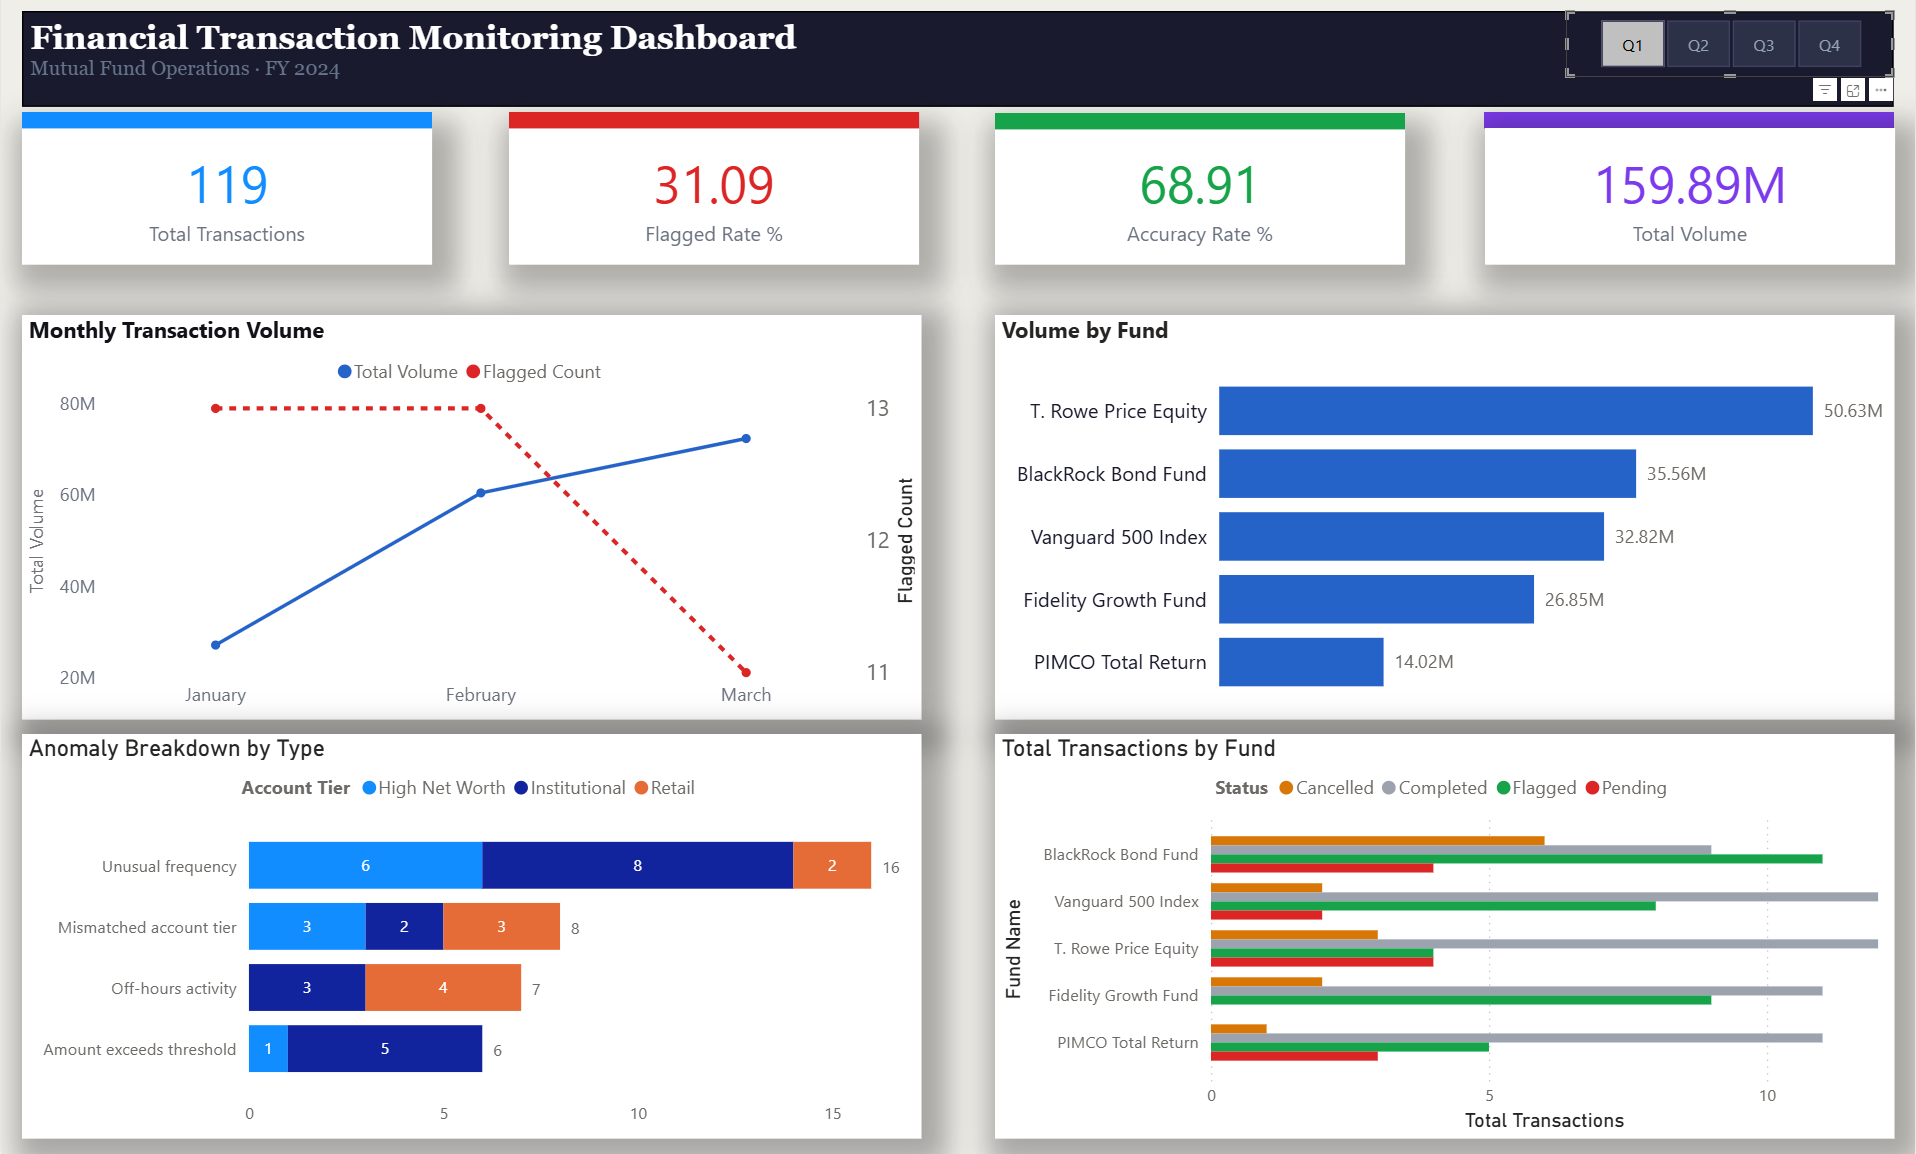

Layout of this report page (visuals, bound fields, positions):
{"tool":"powerbi","page":{"name":"Financial Transactions Monitoring Dashboard","canvas":[1400,850],"ordinal":0},"visuals":[{"type":"textbox","box":[15.4,13.1,1369.2,70],"z":0},{"type":"card","fields":{"Values":["_Measures.Total Transactions"]},"box":[15.4,98.8,299.9,100.2],"z":1000},{"type":"card","fields":{"Values":["_Measures.Flagged Rate %"]},"box":[371.6,98.8,299.9,100.2],"z":2000},{"type":"card","fields":{"Values":["_Measures.Accuracy Rate %"]},"box":[727.1,98.8,299.9,100.2],"z":3000},{"type":"shape","box":[15.4,87,299.9,12.4],"z":4000},{"type":"shape","box":[371.6,87,299.9,11.7],"z":5000},{"type":"shape","box":[727.1,87.8,299.9,12.4],"z":6000},{"type":"shape","box":[1084.8,87,299.9,12.4],"z":7000},{"type":"card","fields":{"Values":["_Measures.Total Volume"]},"box":[1085.5,98.8,299.9,100.2],"z":8000},{"type":"lineChart","title":"Monthly Transaction Volume","fields":{"Category":["DateTable.Month Name"],"Y":["_Measures.Total Volume"],"Y2":["_Measures.Flagged Count"]},"box":[15.4,235.5,658.3,296.3],"z":9000},{"type":"clusteredBarChart","title":"Volume by Fund ","fields":{"Category":["financial_transactions.Fund_Name"],"Y":["_Measures.Total Volume"]},"box":[727.1,235.5,657.6,296.3],"z":10000},{"type":"barChart","title":"Anomaly Breakdown by Type","fields":{"Category":["financial_transactions.Anomaly_Reason"],"Y":["_Measures.Flagged Count"],"Series":["financial_transactions.Account_Tier"]},"box":[15,542,658,296],"z":11000},{"type":"clusteredBarChart","title":"Total Transactions by Fund","fields":{"Category":["financial_transactions.Fund_Name"],"Y":["_Measures.Total Transactions"],"Series":["financial_transactions.Status"]},"box":[727,542,658,296],"z":12000},{"type":"slicer","fields":{"Values":["DateTable.Quarter"]},"box":[1144.8,13.2,239.9,48.3],"z":13000}]}

Visuals, with their boxes in screenshot pixels (x1, y1, x2, y2), scaled from the page's 1400x850 canvas onto the 1916x1154 screenshot:
textbox: [x1=21, y1=18, x2=1895, y2=113]
card - _Measures.Total Transactions: [x1=21, y1=134, x2=432, y2=270]
card - _Measures.Flagged Rate %: [x1=509, y1=134, x2=919, y2=270]
card - _Measures.Accuracy Rate %: [x1=995, y1=134, x2=1406, y2=270]
shape: [x1=21, y1=118, x2=432, y2=135]
shape: [x1=509, y1=118, x2=919, y2=134]
shape: [x1=995, y1=119, x2=1406, y2=136]
shape: [x1=1485, y1=118, x2=1895, y2=135]
card - _Measures.Total Volume: [x1=1486, y1=134, x2=1896, y2=270]
"Monthly Transaction Volume" lineChart: [x1=21, y1=320, x2=922, y2=722]
"Volume by Fund " clusteredBarChart: [x1=995, y1=320, x2=1895, y2=722]
"Anomaly Breakdown by Type" barChart: [x1=21, y1=736, x2=921, y2=1138]
"Total Transactions by Fund" clusteredBarChart: [x1=995, y1=736, x2=1895, y2=1138]
slicer - DateTable.Quarter: [x1=1567, y1=18, x2=1895, y2=83]
